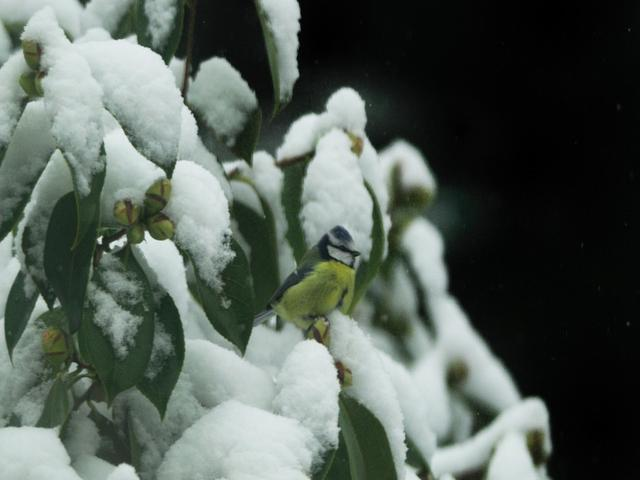bird: (265, 210, 366, 332)
